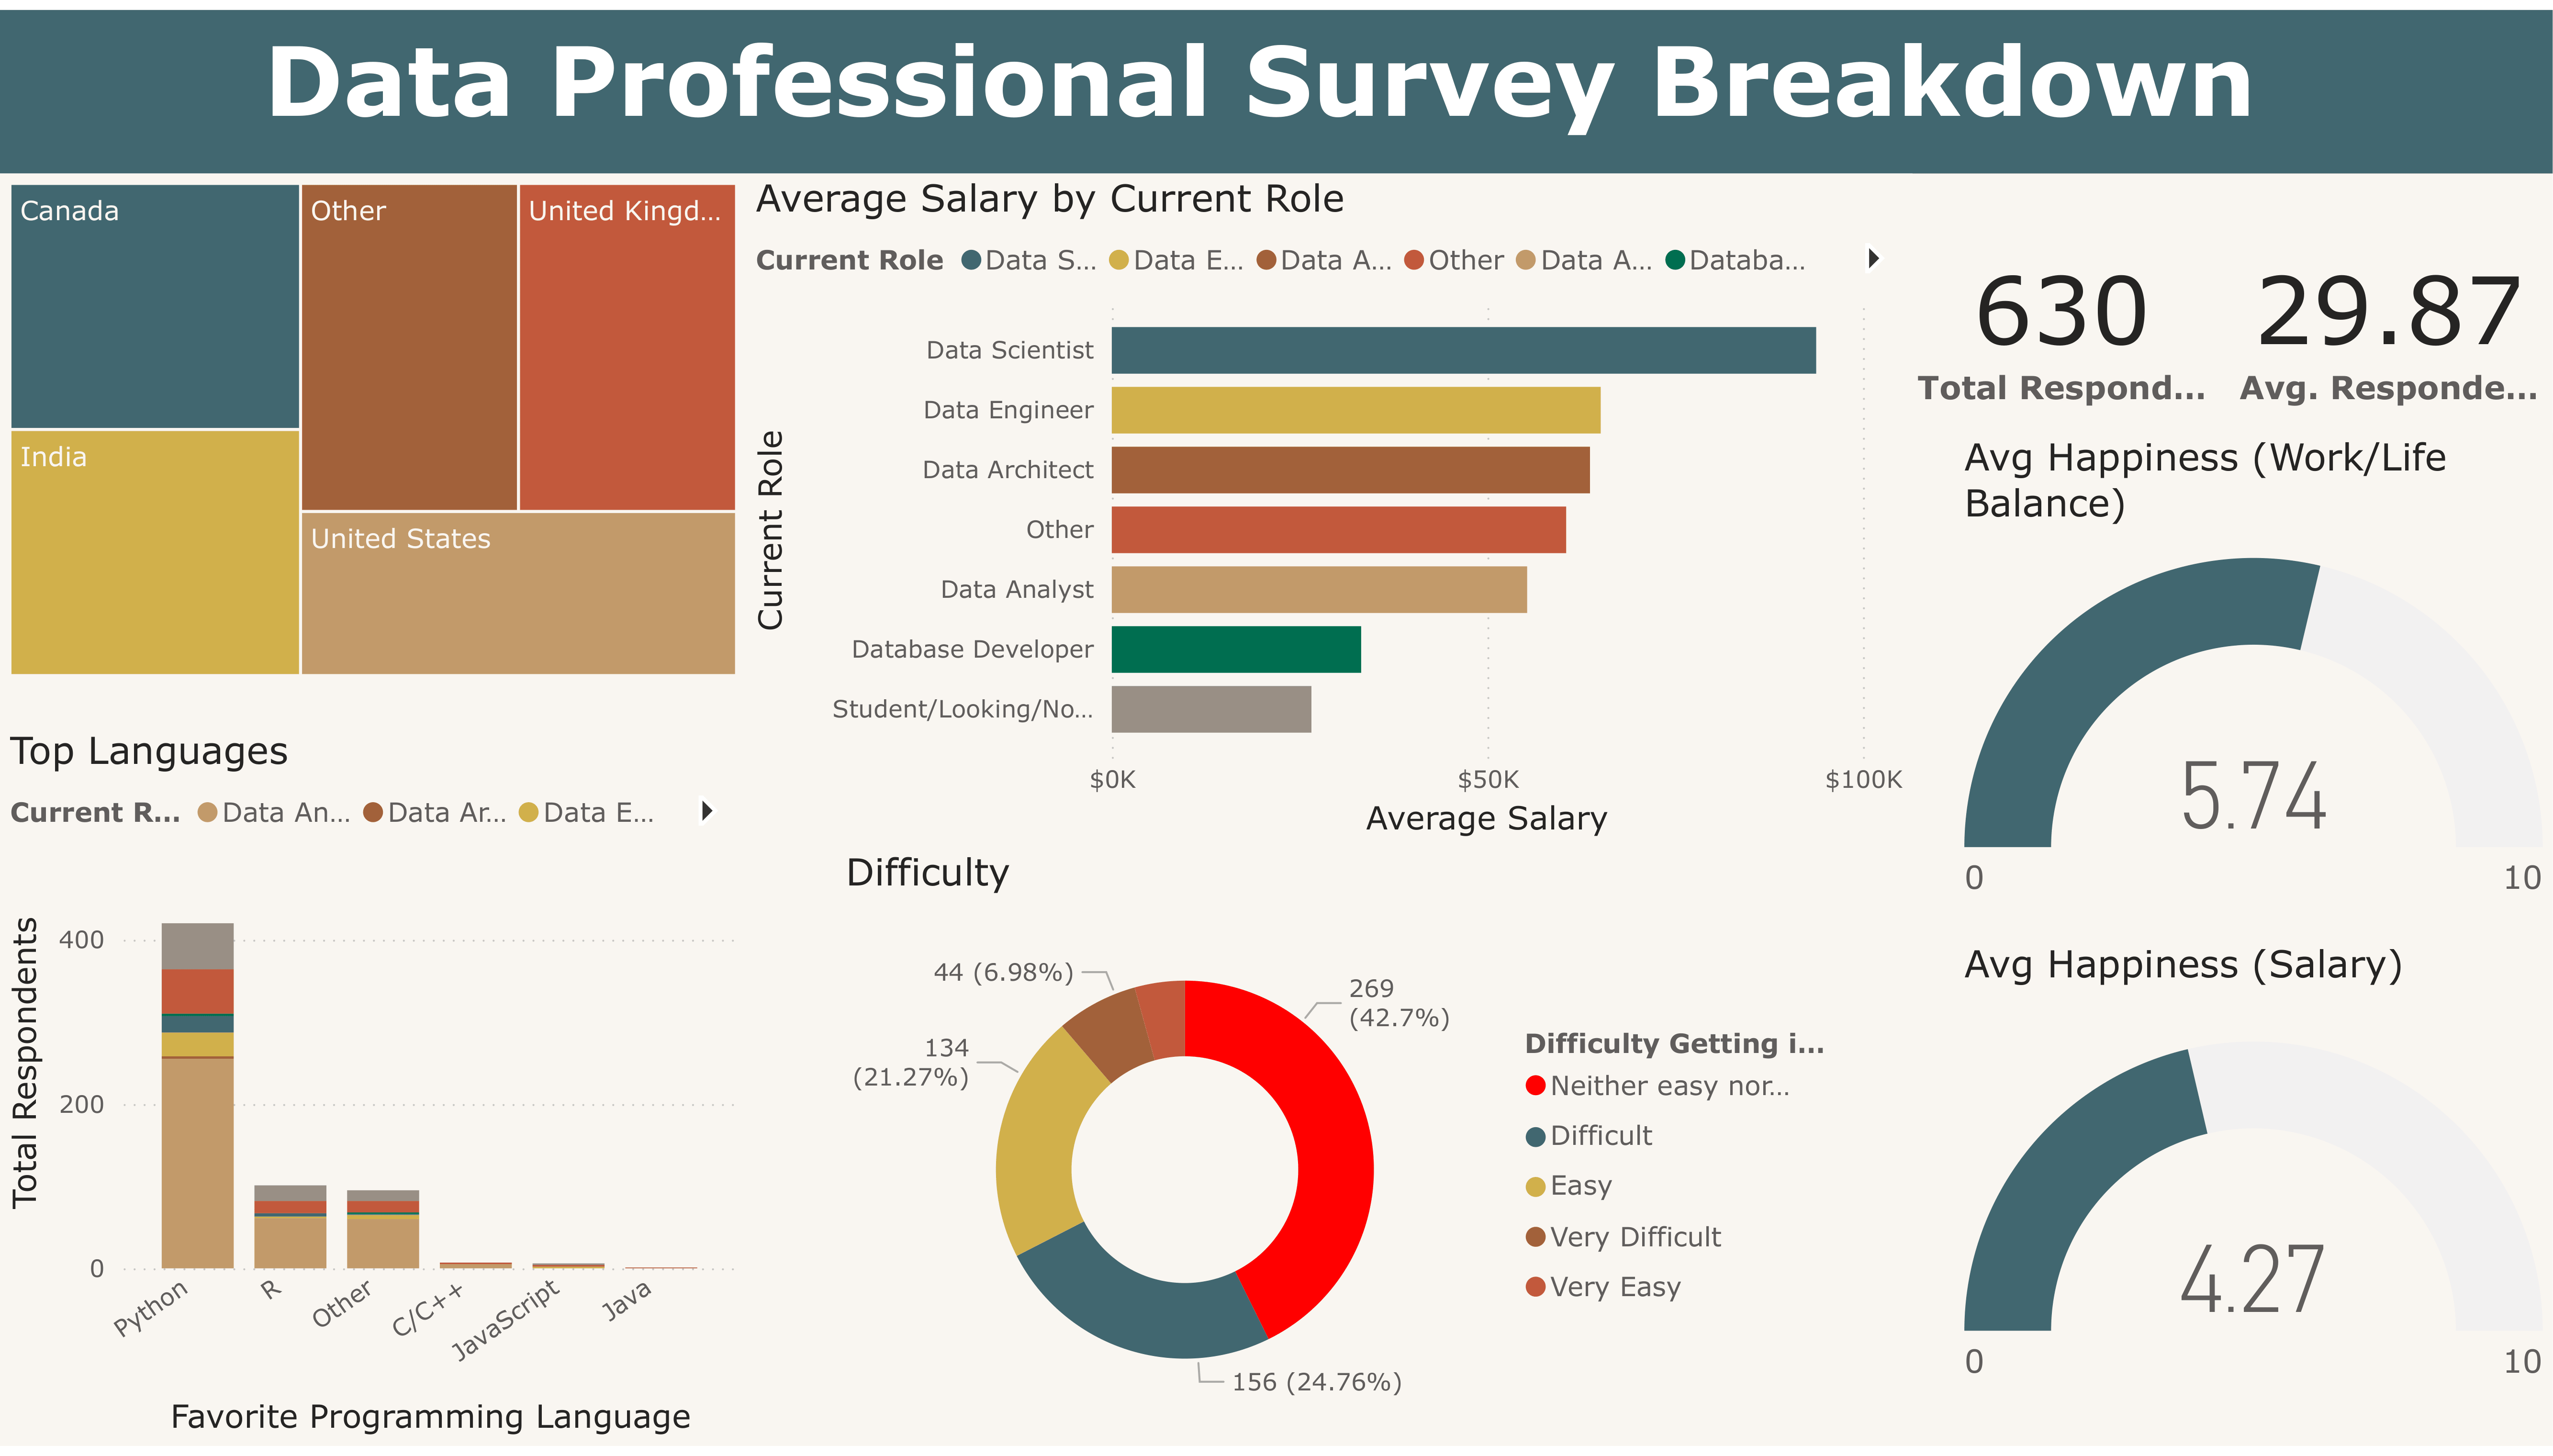

The dashboard page shown, as its layout file describes it:
{"tool":"powerbi","page":{"name":"Page 1","canvas":[1280,720],"ordinal":0},"visuals":[{"type":"textbox","box":[0,0,1279.7,82.4],"z":0},{"type":"card","fields":{"Values":["Count(Data Professional Survey.Unique ID)"]},"box":[952.1,82.6,164,150],"z":1000},{"type":"card","fields":{"Values":["Avg(Data Professional Survey.Q10 - Current Age)"]},"box":[1116,82.6,164,150],"z":2000},{"type":"barChart","title":"Average Salary by Current Role","fields":{"Category":["Data Professional Survey.Q1 - Which Title Best Fits your Current Role?.1"],"Y":["Avg(Data Professional Survey.Average Salary)"],"Series":["Data Professional Survey.Q1 - Which Title Best Fits your Current Role?.1"]},"box":[374.3,82.4,585.1,337.8],"z":3000},{"type":"columnChart","title":"Top Languages","fields":{"Category":["Data Professional Survey.Q5 - Favorite Programming Language.1"],"Y":["CountNonNull(Data Professional Survey.Unique ID)"],"Series":["Data Professional Survey.Q1 - Which Title Best Fits your Current Role?.1"]},"box":[0,359.5,374.3,360.8],"z":4000},{"type":"treemap","fields":{"Values":["Count(Data Professional Survey.Q11 - Which Country do you live in?.1)"],"Group":["Data Professional Survey.Q11 - Which Country do you live in?.1"]},"box":[0,82.4,374.3,256.8],"z":5000},{"type":"gauge","title":"Avg Happiness (Work/Life Balance)","fields":{"MinValue":["Min(Data Professional Survey.Q6 - How Happy are you in your Current Position with the following? (Work/Life Balance))"],"MaxValue":["Max(Data Professional Survey.Q6 - How Happy are you in your Current Position with the following? (Work/Life Balance))"],"Y":["Avg(Data Professional Survey.Q6 - How Happy are you in your Current Position with the following? (Work/Life Balance))"]},"box":[979.7,212.2,300,254.1],"z":6000},{"type":"gauge","title":"Avg Happiness (Salary)","fields":{"MinValue":["Min(Data Professional Survey.Q6 - How Happy are you in your Current Position with the following? (Salary))"],"MaxValue":["Max(Data Professional Survey.Q6 - How Happy are you in your Current Position with the following? (Salary))1"],"Y":["Avg(Data Professional Survey.Q6 - How Happy are you in your Current Position with the following? (Salary))2"]},"box":[979.7,466.2,300,254.1],"z":7000},{"type":"donutChart","title":"Difficulty ","fields":{"Category":["Data Professional Survey.Q7 - How difficult was it for you to break into Data?"],"Y":["CountNonNull(Data Professional Survey.Q7 - How difficult was it for you to break into Data?)"]},"box":[418.9,420.3,497.3,300],"z":8000}]}

Visuals, with their boxes in screenshot pixels (x1, y1, x2, y2), scaled from the page's 1280x720 canvas onto the 2553x1456 screenshot:
textbox: bbox=[0, 0, 2553, 167]
card - Count(Data Professional Survey.Unique ID): bbox=[1899, 167, 2226, 470]
card - Avg(Data Professional Survey.Q10 - Current Age): bbox=[2226, 167, 2553, 470]
"Average Salary by Current Role" barChart: bbox=[747, 167, 1914, 850]
"Top Languages" columnChart: bbox=[0, 727, 747, 1456]
treemap - Count(Data Professional Survey.Q11 - Which Country do you live in?.1) x Data Professional Survey.Q11 - Which Country do you live in?.1: bbox=[0, 167, 747, 686]
"Avg Happiness (Work/Life Balance)" gauge: bbox=[1954, 429, 2553, 943]
"Avg Happiness (Salary)" gauge: bbox=[1954, 943, 2553, 1456]
"Difficulty " donutChart: bbox=[836, 850, 1827, 1456]
